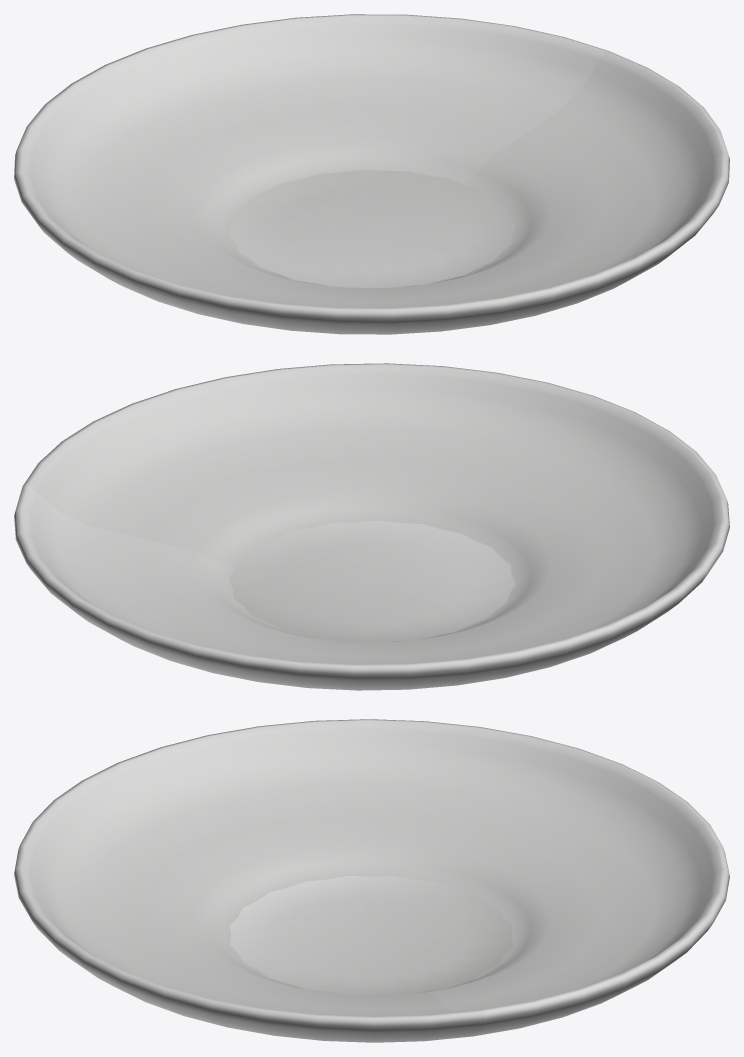
The model's file is assiette01.fbx.
The picture shows the model from 3 angles, top to bottom: view 1: azimuth 30°, elevation 25°; view 2: azimuth 150°, elevation 25°; view 3: azimuth 270°, elevation 25°; orthographic projection.
Visible parts, largest first — view 1: assiette1; view 2: assiette1; view 3: assiette1.
Part boxes in pixels (bbox=[...]): assiette1: bbox=[14, 14, 729, 334]; assiette1: bbox=[14, 363, 729, 690]; assiette1: bbox=[14, 719, 729, 1042].
Size of the model in its own units: 0.6621 by 0.0879 by 0.6621.
1 material, 1 textured.
